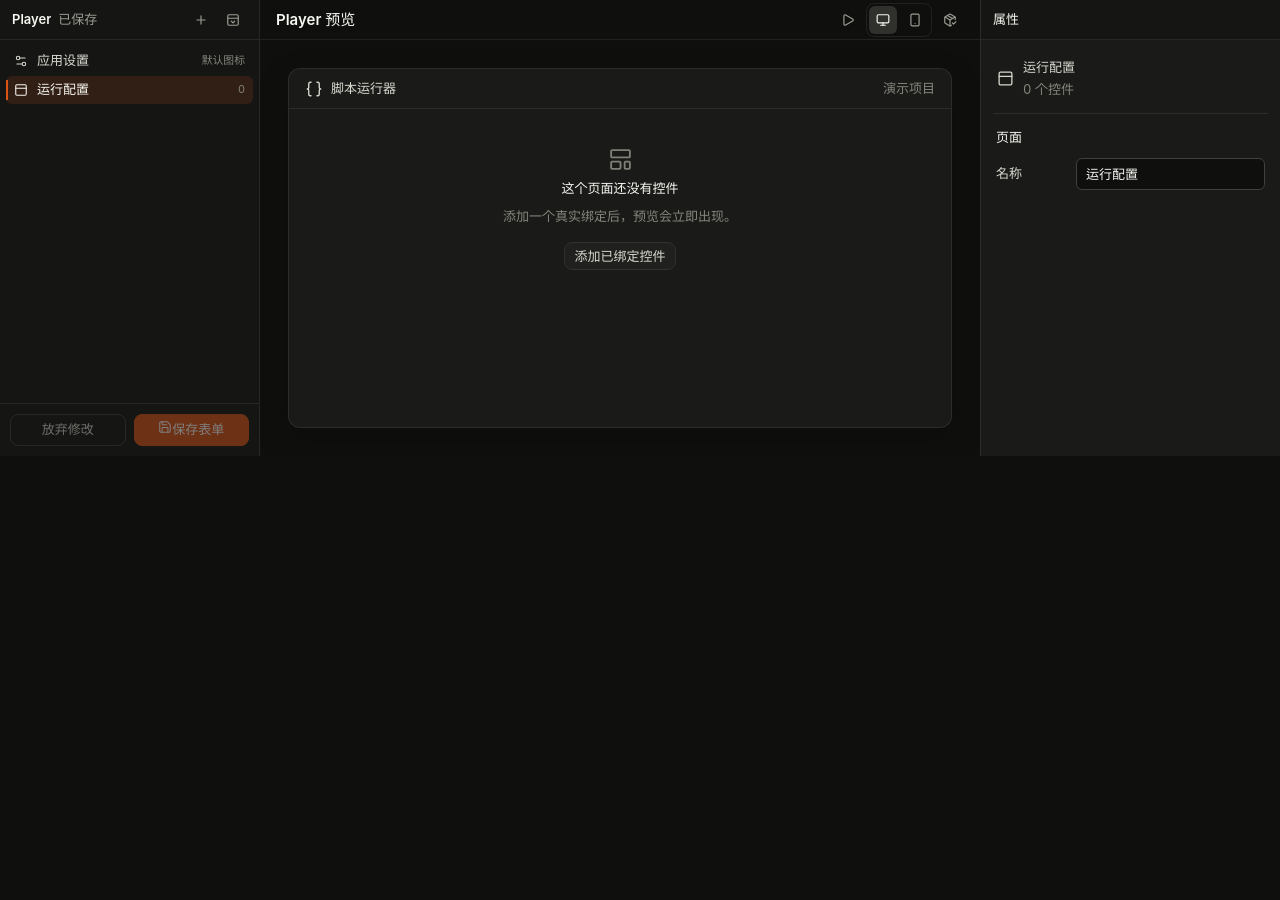
Scenario: VNextPlayerWorkspace schema3 authoring › 用所属函数、资源名和粘贴的稳定 ID 精确区分同名语句
Click the button named "添加已绑定控件" at (233, 20), box [219,6,247,34]
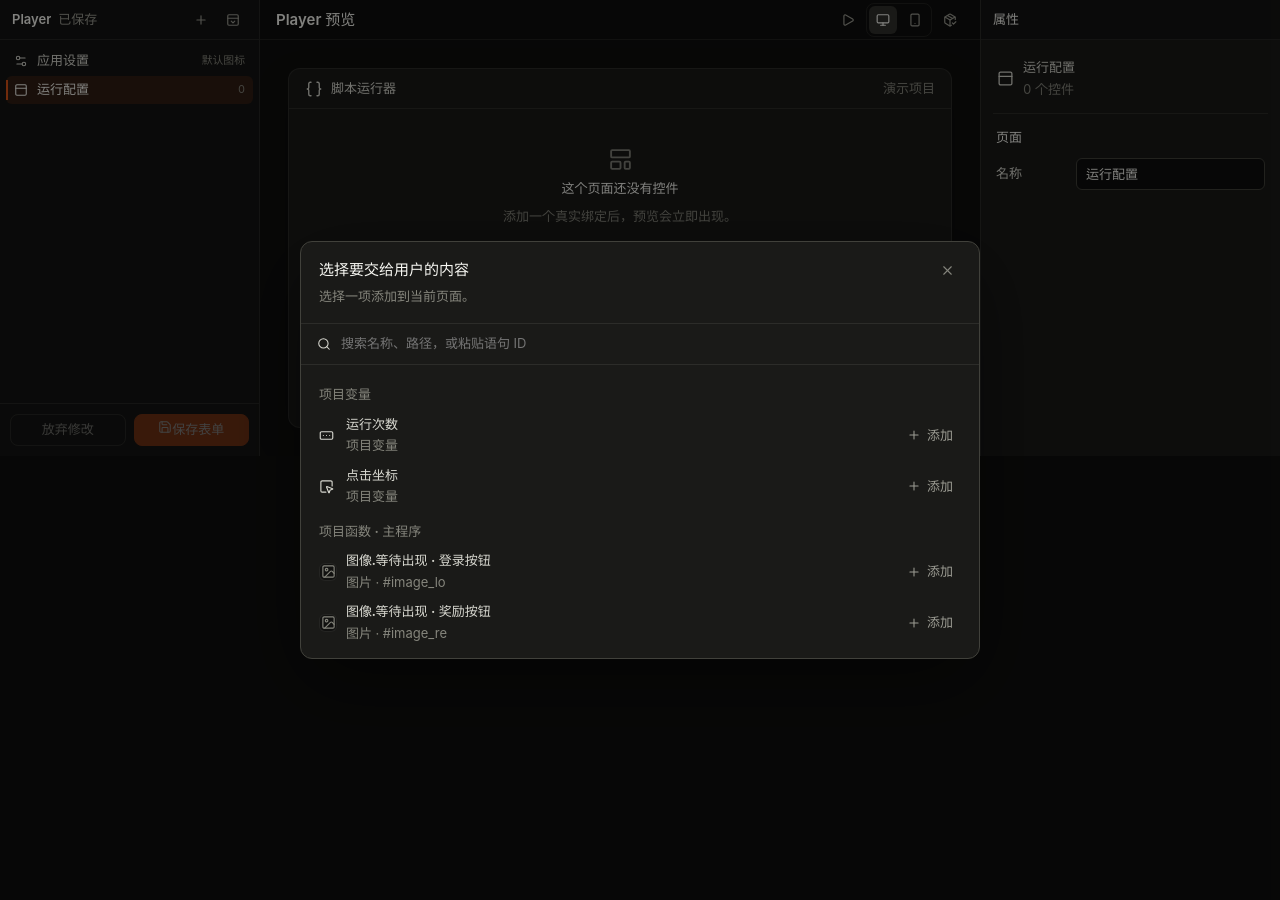
Type "statement_image_login_12345678" into the field with placeholder "搜索名称、路径，或粘贴语句 ID" at (651, 344), box [339,333,963,355]
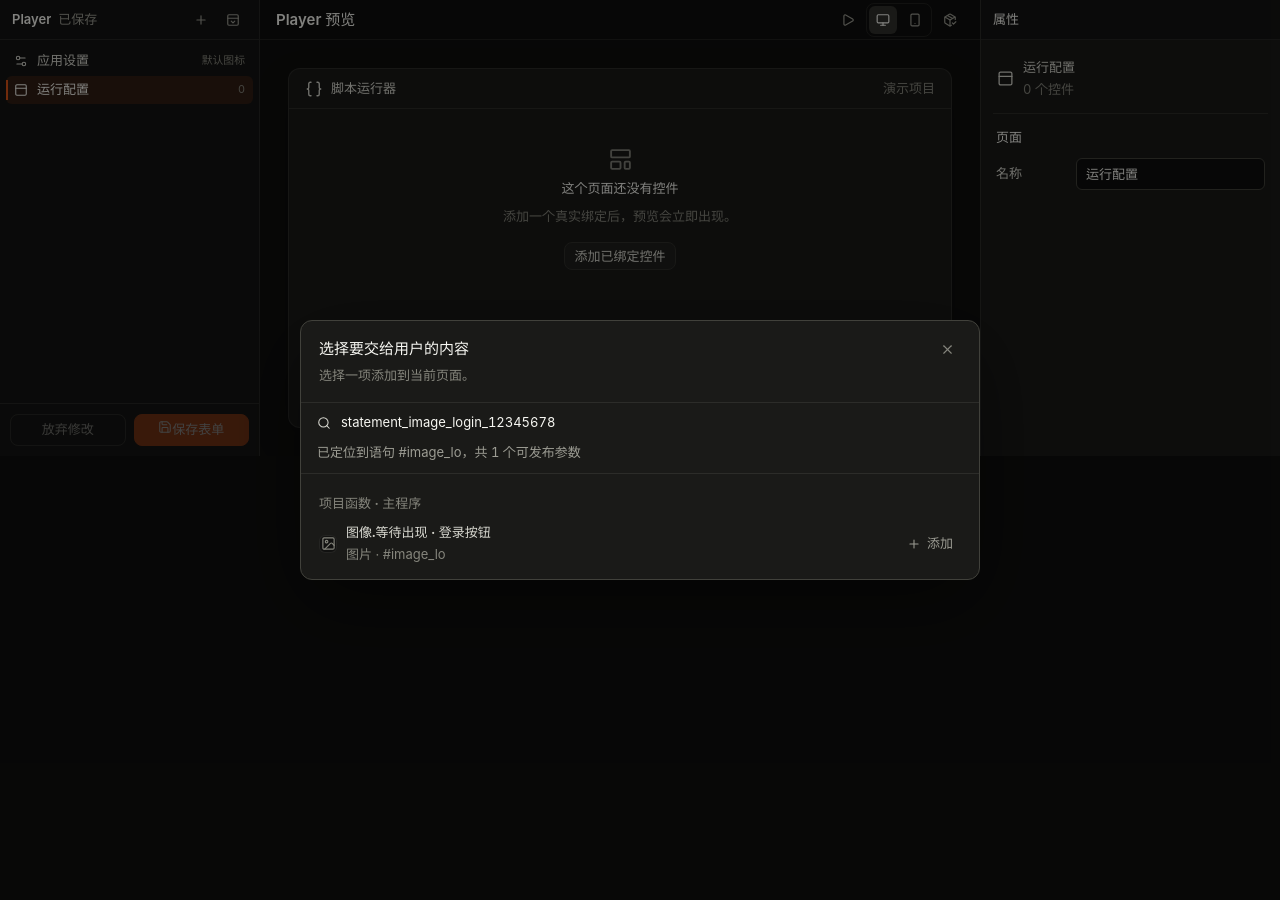
Result: the message with class "located-statement" shows "#image_lo" at [317,444,581,460]
Result: the message with class "located-statement" shows "1 个可发布参数" at [317,444,581,460]
Result: the number of options with class "source-row" is 1 at [311,518,969,569]
